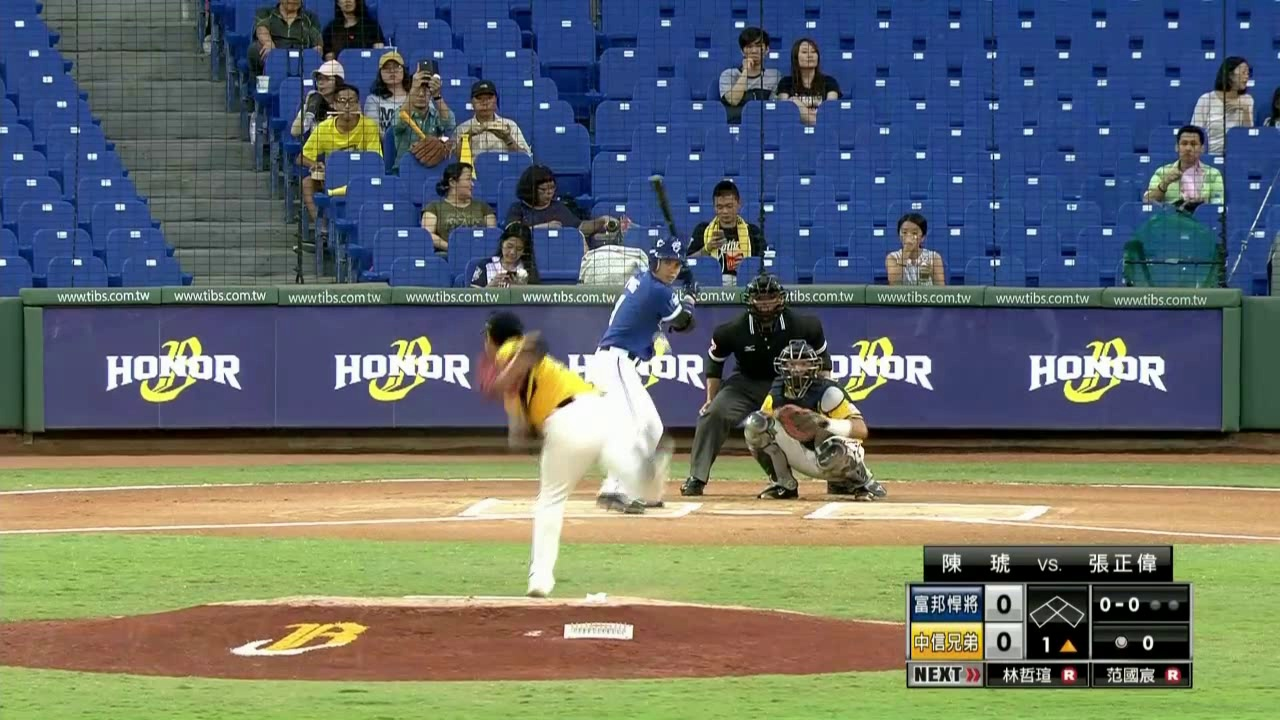ball: (657, 334, 667, 349)
base: (1029, 588, 1087, 630)
bat: (651, 175, 698, 290)
out: (1147, 594, 1186, 615)
score1: (991, 591, 1019, 620)
score2: (993, 628, 1016, 656)
session: (1028, 634, 1084, 656)
strikeball: (1094, 592, 1145, 617)
total: (1108, 630, 1162, 653)
